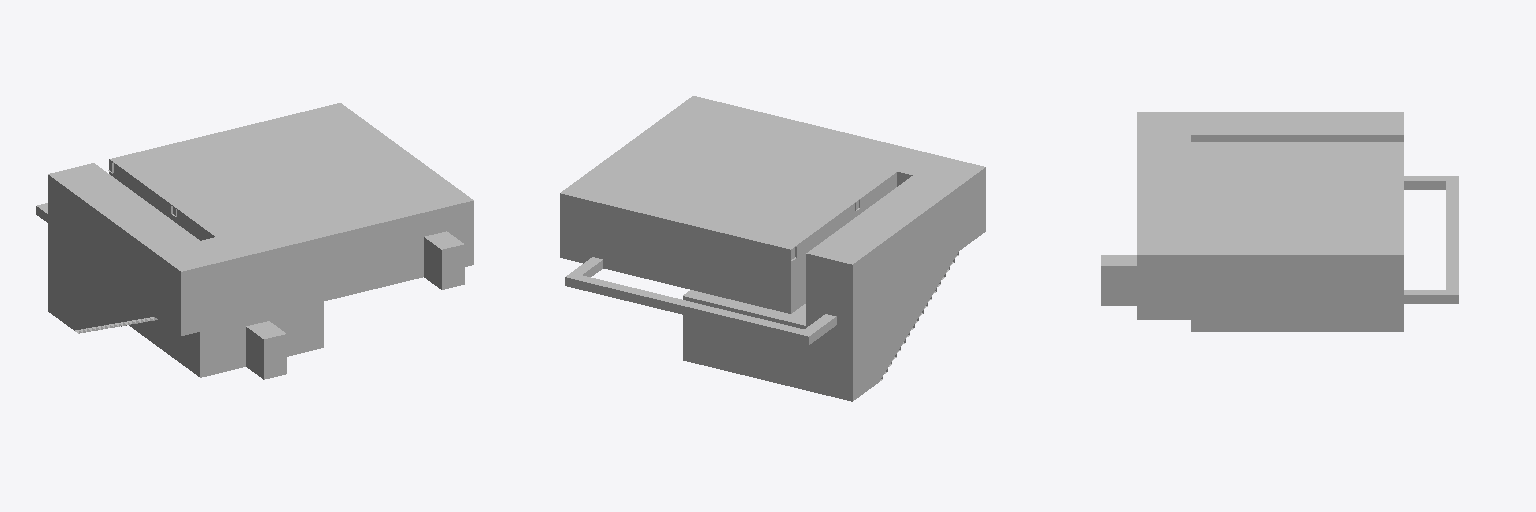
The model's file is Lenzos Shop.obj.
The picture shows the model from 3 angles: view 1: azimuth 30°, elevation 25°; view 2: azimuth 150°, elevation 25°; view 3: azimuth 270°, elevation 25°; orthographic projection.
Parts seen in each view (by area): view 1: n45b45; view 2: n45b45; view 3: n45b45.
Part boxes in pixels (left/top/right/bottom): n45b45: left=36, top=103, right=473, bottom=379; n45b45: left=560, top=96, right=985, bottom=401; n45b45: left=1101, top=112, right=1458, bottom=331.
Bounding box in the file's own units: 1.9 × 0.8961 × 2.01.